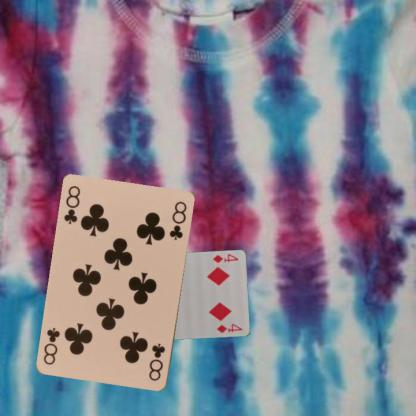4d: (210, 251, 239, 265)
8c: (61, 183, 82, 226), (146, 341, 167, 382)
